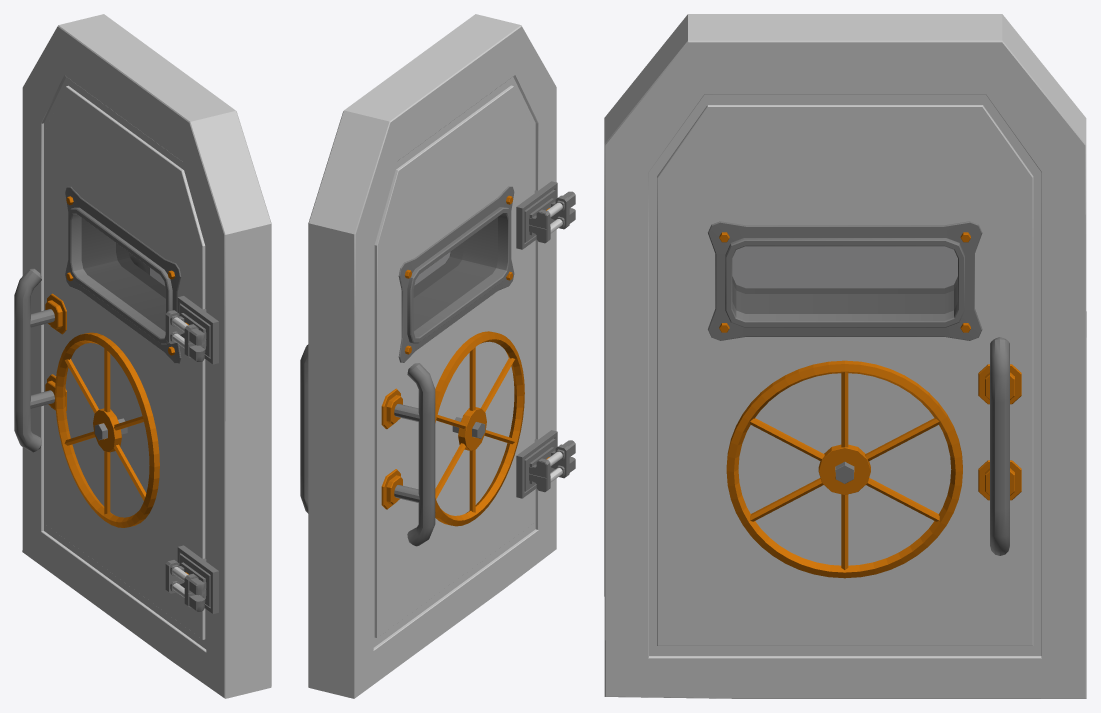
The model's file is Interior_Door_Mirrored.fbx.
The picture shows the model from 3 angles, left to right: view 1: azimuth 30°, elevation 25°; view 2: azimuth 150°, elevation 25°; view 3: azimuth 270°, elevation 25°; orthographic projection. The views are drawn at different scales.
Parts seen in each view (by area): view 1: Interior Door Mirrored, Wheel Inside.001; view 2: Interior Door Mirrored, Wheel Inside.001; view 3: Interior Door Mirrored, Wheel Outside.001.
Boxes of the visible parts, x1,y1,x2,y2 form: Interior Door Mirrored: [14, 14, 271, 698]; Wheel Inside.001: [55, 332, 159, 527]; Interior Door Mirrored: [300, 14, 575, 698]; Wheel Inside.001: [435, 331, 524, 526]; Interior Door Mirrored: [604, 14, 1086, 698]; Wheel Outside.001: [726, 360, 962, 578].
Size of the model in its own units: 0.8289 by 2.18 by 3.29.
